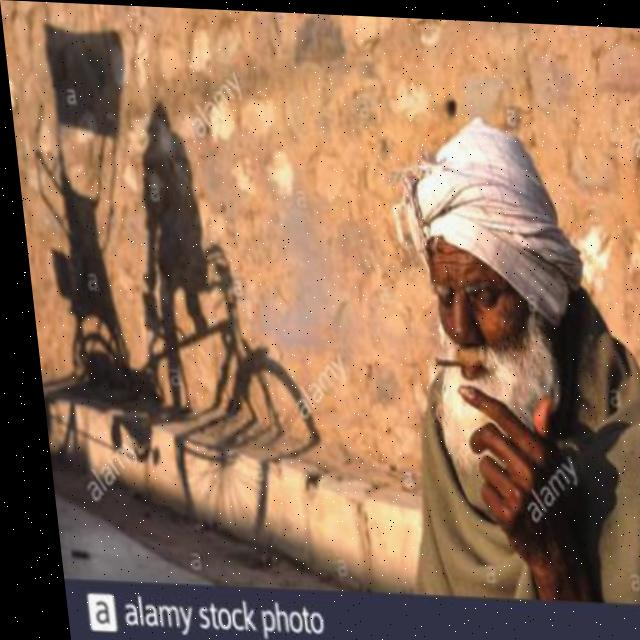cigarette: (425, 353, 458, 366)
